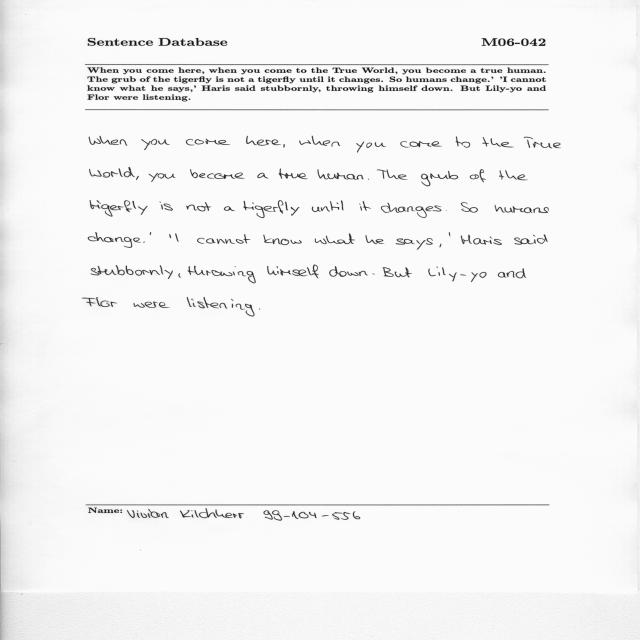word: (187, 298, 255, 317), (188, 266, 256, 283), (91, 265, 173, 279), (243, 200, 300, 218), (90, 200, 148, 217), (381, 202, 441, 218), (428, 267, 487, 282), (88, 232, 141, 248), (267, 265, 319, 278), (89, 167, 139, 180), (421, 171, 458, 186), (190, 169, 245, 179), (197, 234, 250, 244), (318, 169, 364, 180), (299, 136, 340, 147), (396, 238, 433, 250), (315, 233, 355, 244), (495, 205, 549, 213), (329, 266, 368, 277), (461, 235, 502, 245), (524, 137, 561, 148), (89, 136, 128, 146), (263, 235, 302, 245), (514, 234, 548, 245), (246, 136, 281, 146), (83, 297, 118, 307), (312, 201, 343, 212), (356, 142, 386, 153), (482, 137, 514, 147), (141, 139, 170, 150), (279, 169, 308, 180), (377, 170, 408, 180), (498, 268, 526, 279), (400, 141, 443, 148), (382, 268, 412, 278), (499, 171, 528, 181), (186, 139, 230, 145), (134, 301, 170, 308), (469, 169, 486, 183), (186, 202, 211, 211), (461, 202, 478, 213), (366, 235, 384, 244), (456, 137, 470, 148), (160, 201, 173, 211), (359, 201, 371, 211), (158, 173, 176, 179), (149, 173, 158, 182), (258, 173, 269, 179), (224, 207, 235, 212), (175, 233, 179, 242), (179, 273, 182, 278), (283, 144, 285, 148), (169, 235, 171, 239), (440, 244, 442, 248), (449, 233, 451, 237), (150, 233, 151, 236), (372, 274, 375, 275), (143, 242, 145, 243), (368, 179, 369, 180), (446, 210, 447, 211), (259, 309, 260, 310)
